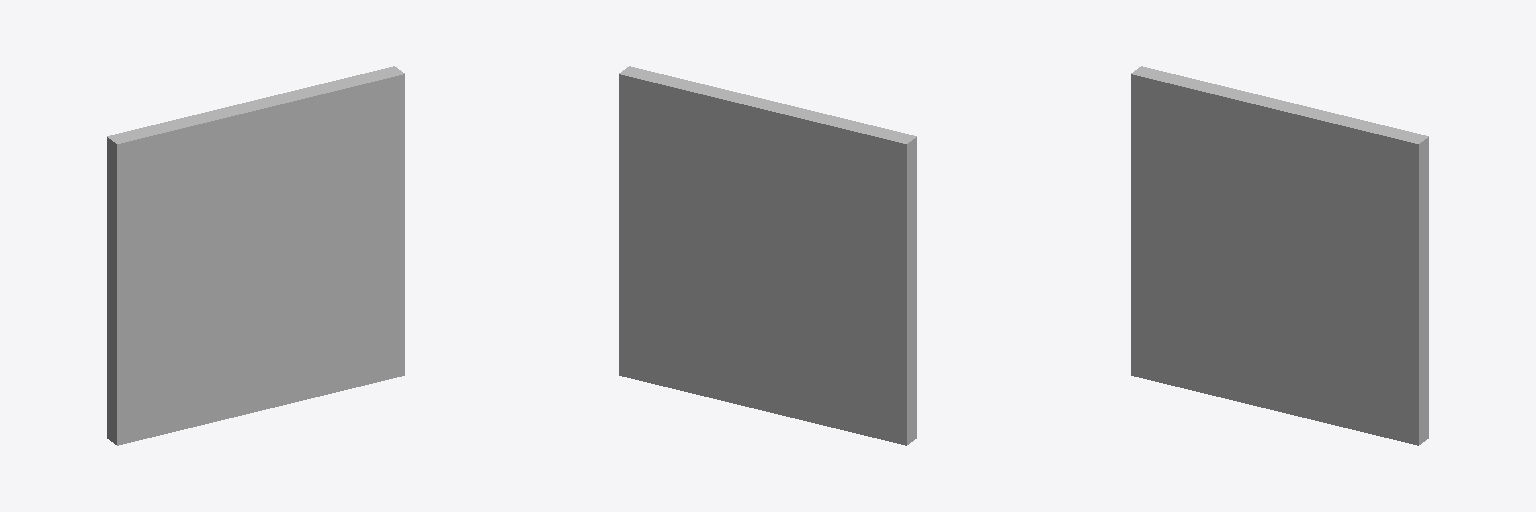
The model's file is Grass.obj.
3 renders of one model, left to right at view 1: azimuth 30°, elevation 25°; view 2: azimuth 150°, elevation 25°; view 3: azimuth 330°, elevation 25°, orthographic.
Parts seen in each view (by area): view 1: Grass; view 2: Grass; view 3: Grass.
Boxes of the visible parts, x1,y1,x2,y2 form: Grass: [107, 66, 404, 445]; Grass: [619, 66, 916, 445]; Grass: [1131, 66, 1428, 445].
Bounding box in the file's own units: 31 × 31 × 2.